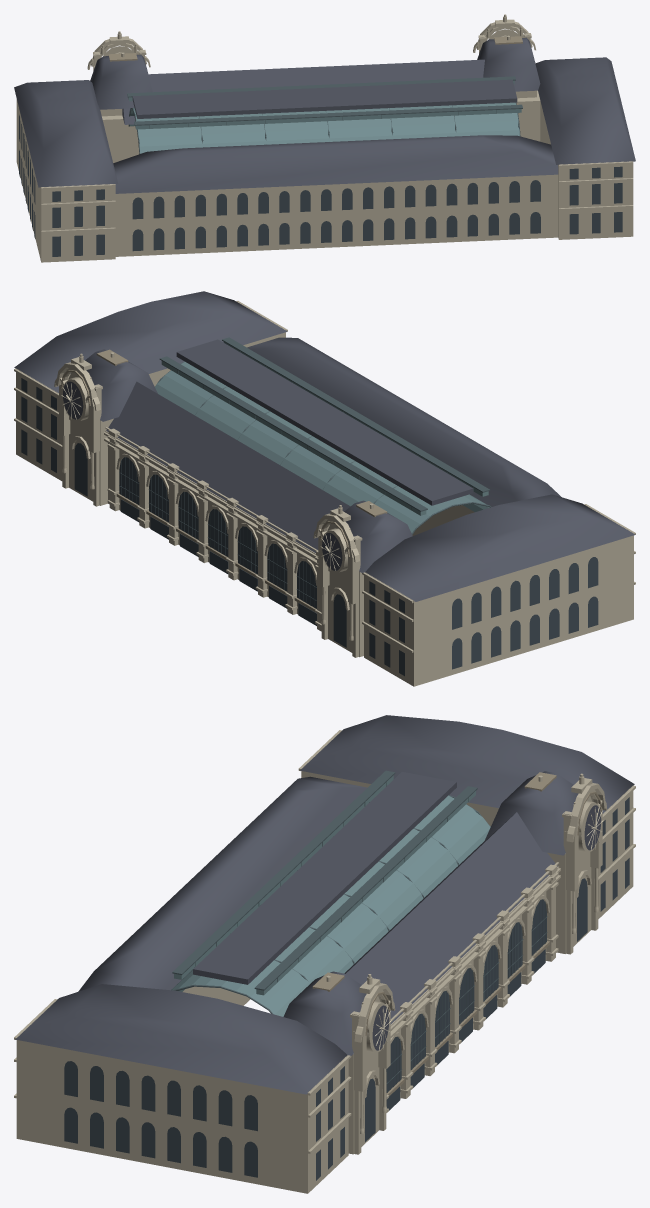
The model's file is paris-musee-orsay-far.glb.
3 views of the same model, one above another, from view 1: azimuth 30°, elevation 25°; view 2: azimuth 150°, elevation 25°; view 3: azimuth 270°, elevation 25° (orthographic). The views are drawn at different scales.
Visible parts, largest first — view 1: paris-musee-orsay-roof, paris-musee-orsay-stone, paris-musee-orsay-shadow, paris-musee-orsay-glass, paris-musee-orsay-iron, paris-musee-orsay-stoneDark; view 2: paris-musee-orsay-roof, paris-musee-orsay-stone, paris-musee-orsay-shadow, paris-musee-orsay-glass, paris-musee-orsay-iron, paris-musee-orsay-stoneDark; view 3: paris-musee-orsay-roof, paris-musee-orsay-stone, paris-musee-orsay-shadow, paris-musee-orsay-glass, paris-musee-orsay-iron, paris-musee-orsay-stoneDark.
Boxes of the visible parts, x1,y1,x2,y2 form: paris-musee-orsay-roof: (14, 37, 635, 193); paris-musee-orsay-stone: (16, 14, 633, 262); paris-musee-orsay-shadow: (19, 115, 622, 256); paris-musee-orsay-glass: (128, 80, 521, 153); paris-musee-orsay-iron: (127, 76, 522, 153); paris-musee-orsay-stoneDark: (108, 36, 522, 61); paris-musee-orsay-roof: (14, 291, 635, 601); paris-musee-orsay-stone: (14, 301, 635, 686); paris-musee-orsay-shadow: (21, 378, 598, 676); paris-musee-orsay-glass: (155, 342, 489, 533); paris-musee-orsay-iron: (119, 337, 491, 607); paris-musee-orsay-stoneDark: (60, 349, 387, 611); paris-musee-orsay-roof: (15, 715, 634, 1094); paris-musee-orsay-stone: (14, 730, 635, 1193); paris-musee-orsay-shadow: (64, 797, 629, 1180); paris-musee-orsay-glass: (171, 775, 490, 1016); paris-musee-orsay-iron: (172, 770, 547, 1092); paris-musee-orsay-stoneDark: (312, 772, 601, 1096).
Bounding box in the file's own units: 202 × 42.95 × 145.
